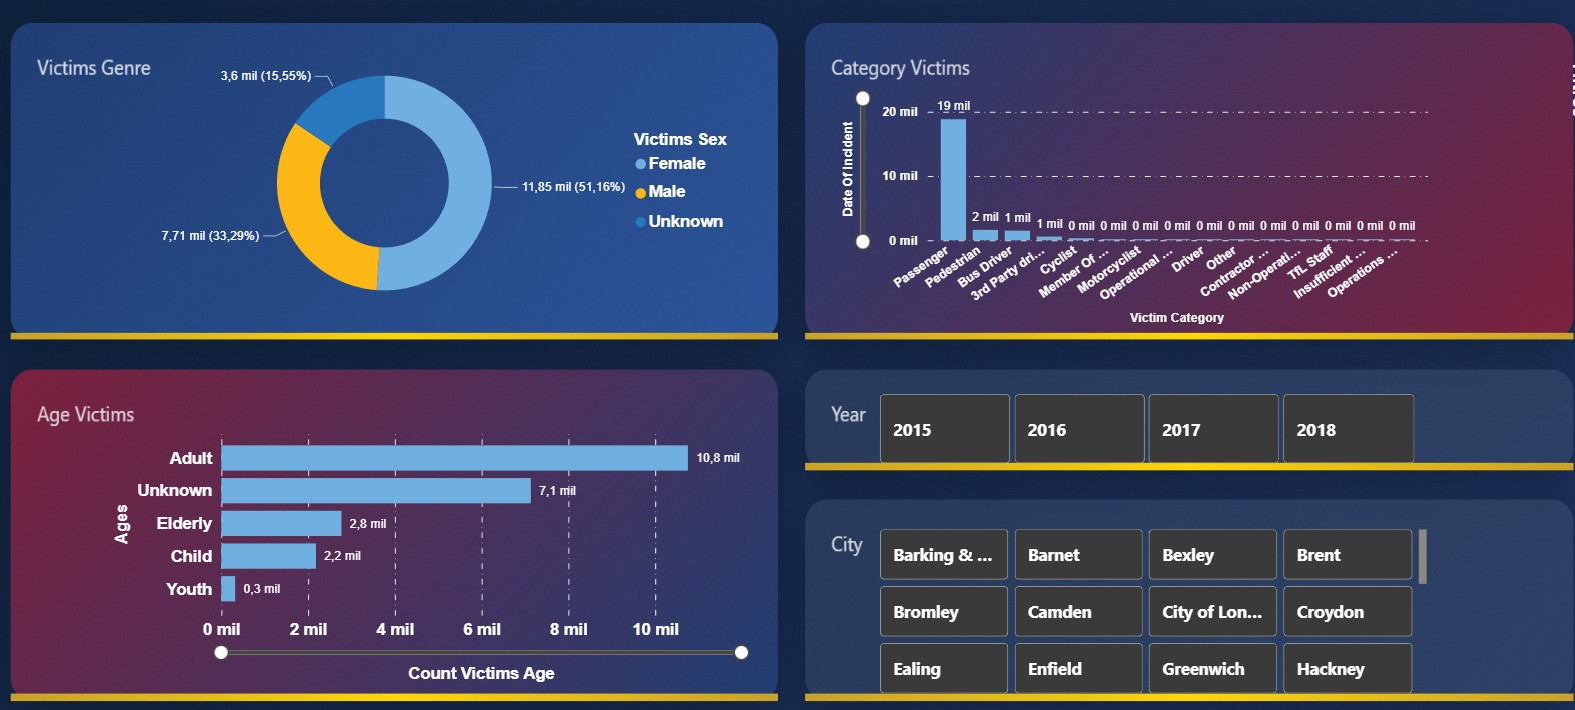

Layout of this report page (visuals, bound fields, positions):
{"tool":"powerbi","page":{"name":"Victims Profile","canvas":[1280,720],"ordinal":1},"visuals":[{"type":"advancedSlicerVisual","fields":{"Values":["Sheet1.Date Of Incident.Variación.Jerarquía de fechas.Año"]},"box":[741.5,385.1,528.4,77.3],"z":0},{"type":"clusteredBarChart","fields":{"Category":["Sheet1.Victims Age"],"Y":["CountNonNull(Sheet1.Victims Age)"]},"box":[0,415,640.5,258],"z":1000},{"type":"clusteredColumnChart","fields":{"Y":["CountNonNull(Sheet1.Date Of Incident)"],"Category":["Sheet1.Victim Category"]},"box":[701.6,91,578.2,236.8],"z":2000},{"type":"donutChart","fields":{"Category":["Sheet1.Victims Sex"],"Y":["CountNonNull(Sheet1.Victims Sex)"]},"box":[21.2,44.9,605.6,282.9],"z":3000},{"type":"advancedSlicerVisual","fields":{"Values":["Sheet1.Borough"]},"box":[741.5,515.9,538.3,172],"z":4000}]}

Visuals, with their boxes on the page's 1280x720 design canvas (x1, y1, x2, y2). These are canvas units, not pixel positions in the 1575x710 screenshot, which may show the page scaled, cropped or inside an application window:
advancedSlicerVisual - Sheet1.Date Of Incident.Variación.Jerarquía de fechas.Año: Rect(742, 385, 1270, 462)
clusteredBarChart - Sheet1.Victims Age x CountNonNull(Sheet1.Victims Age): Rect(0, 415, 640, 673)
clusteredColumnChart - CountNonNull(Sheet1.Date Of Incident) x Sheet1.Victim Category: Rect(702, 91, 1280, 328)
donutChart - Sheet1.Victims Sex x CountNonNull(Sheet1.Victims Sex): Rect(21, 45, 627, 328)
advancedSlicerVisual - Sheet1.Borough: Rect(742, 516, 1280, 688)
